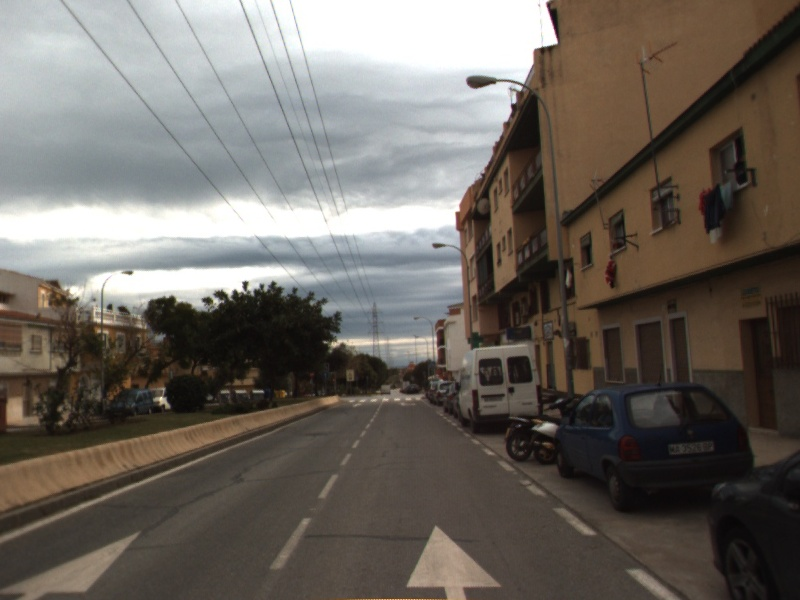STRAIGHT: (1, 527, 145, 600), (403, 523, 504, 600)
